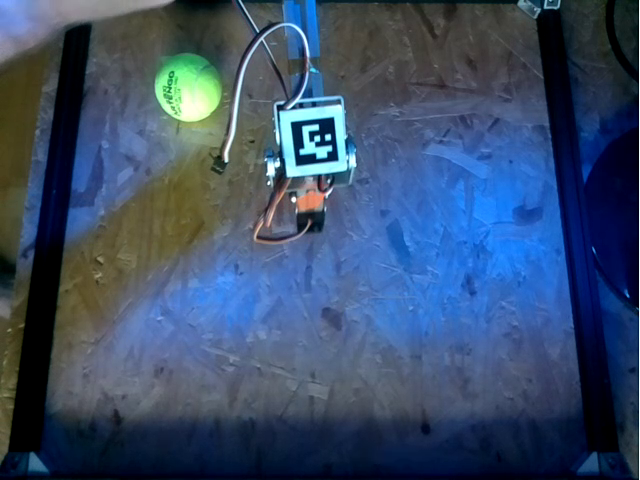tennis_ball: (153, 53, 221, 123)
